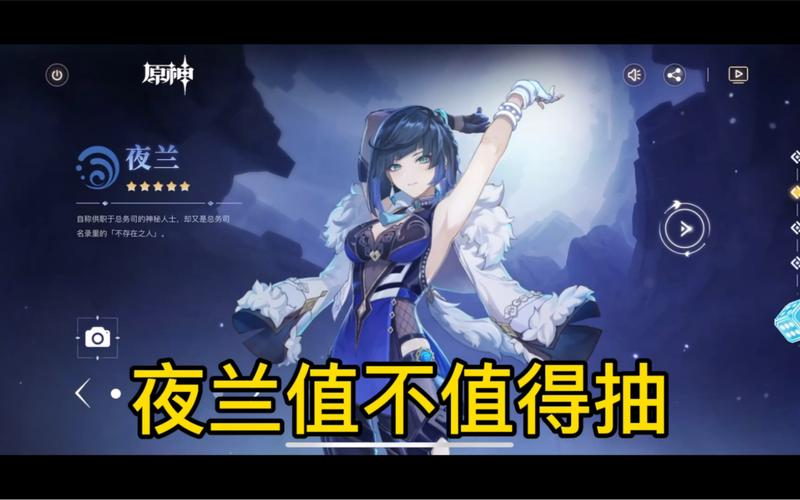夜兰: (298, 76, 571, 455)
